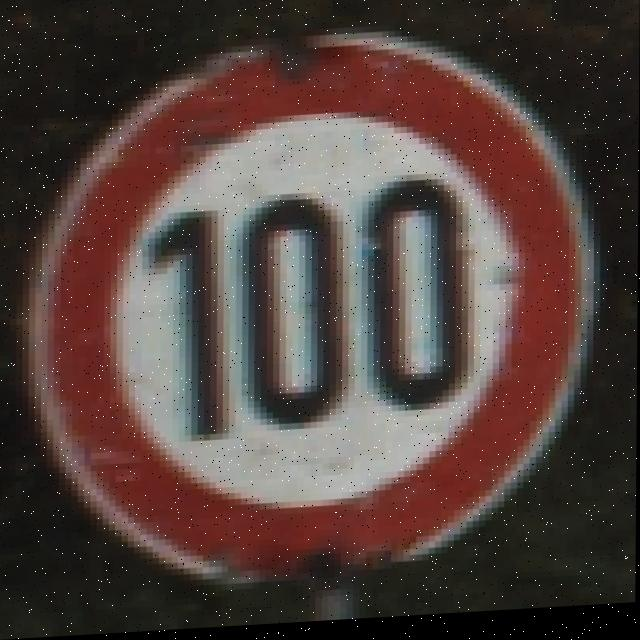speed_limit_100: (47, 38, 580, 578)
